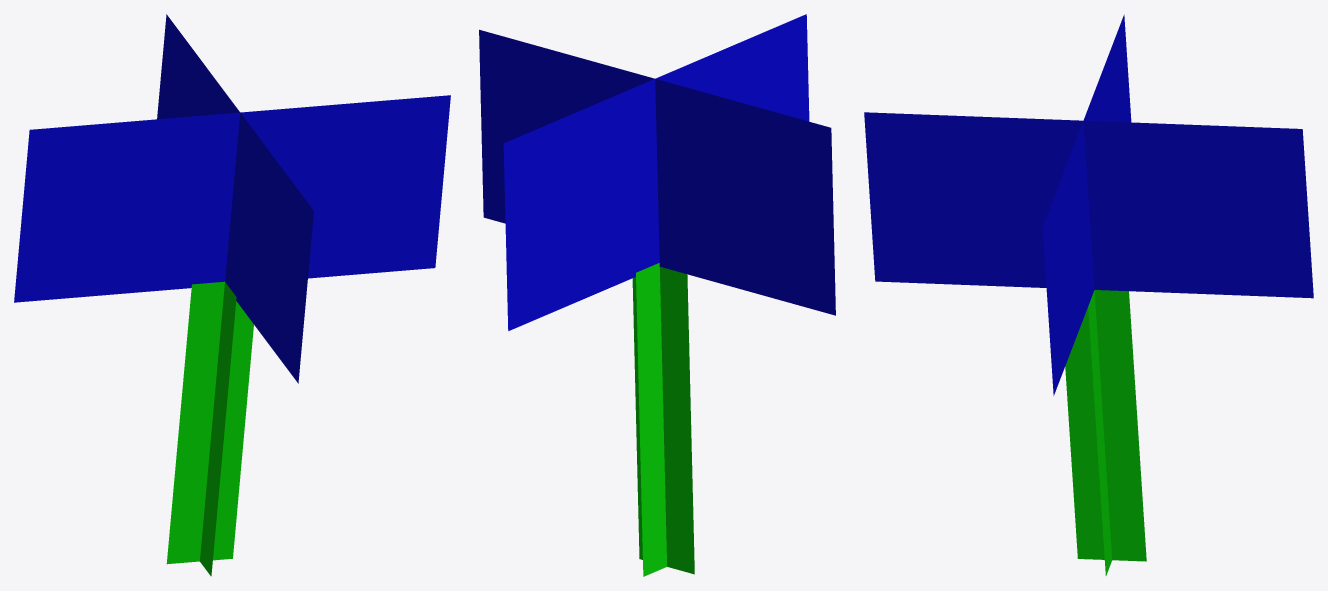
The model's file is M_Flower.fbx.
3 renders of one model, left to right at view 1: azimuth 30°, elevation 25°; view 2: azimuth 150°, elevation 25°; view 3: azimuth 270°, elevation 25°, orthographic. The views are drawn at different scales.
Parts seen in each view (by area): view 1: Flower; view 2: Flower; view 3: Flower.
Part boxes in pixels (box(x1,y1,x2,y2)): Flower: box(14, 14, 450, 576); Flower: box(479, 14, 835, 576); Flower: box(864, 14, 1313, 575).
Bounding box in the file's own units: 27.99 × 32.17 × 27.99.
